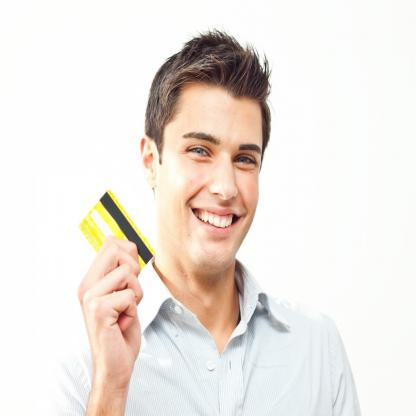tarjeta: (78, 188, 156, 276)
